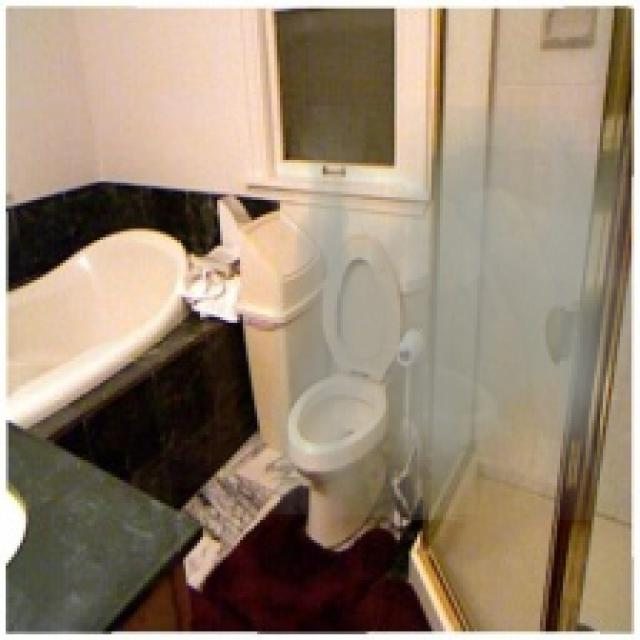smoke: (272, 106, 634, 520)
